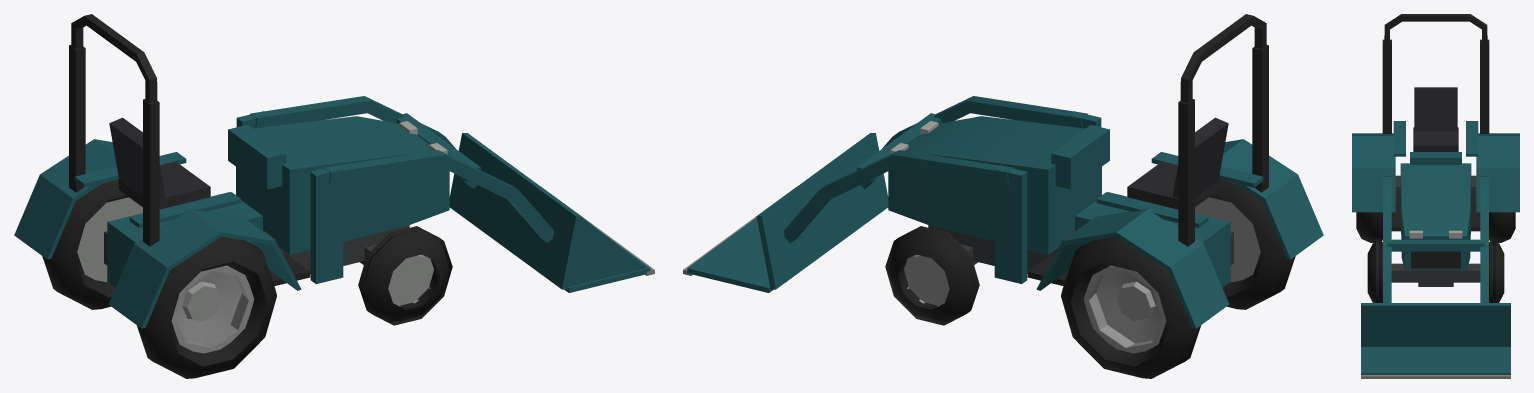
The model's file is SM_Prop_farm_tractor_compact_0_LOD2.glb.
3 views of the same model, side by side, from view 1: azimuth 30°, elevation 25°; view 2: azimuth 150°, elevation 25°; view 3: azimuth 270°, elevation 25° (orthographic). The views are drawn at different scales.
Visible parts, largest first — view 1: SM_Prop_farm_tractor_compact_0_LOD2; view 2: SM_Prop_farm_tractor_compact_0_LOD2; view 3: SM_Prop_farm_tractor_compact_0_LOD2.
Part boxes in pixels (bbox=[...]): SM_Prop_farm_tractor_compact_0_LOD2: bbox=[14, 14, 654, 378]; SM_Prop_farm_tractor_compact_0_LOD2: bbox=[683, 14, 1323, 378]; SM_Prop_farm_tractor_compact_0_LOD2: bbox=[1352, 14, 1519, 378].
Size of the model in its own units: 3.82 by 2.22 by 1.62.
